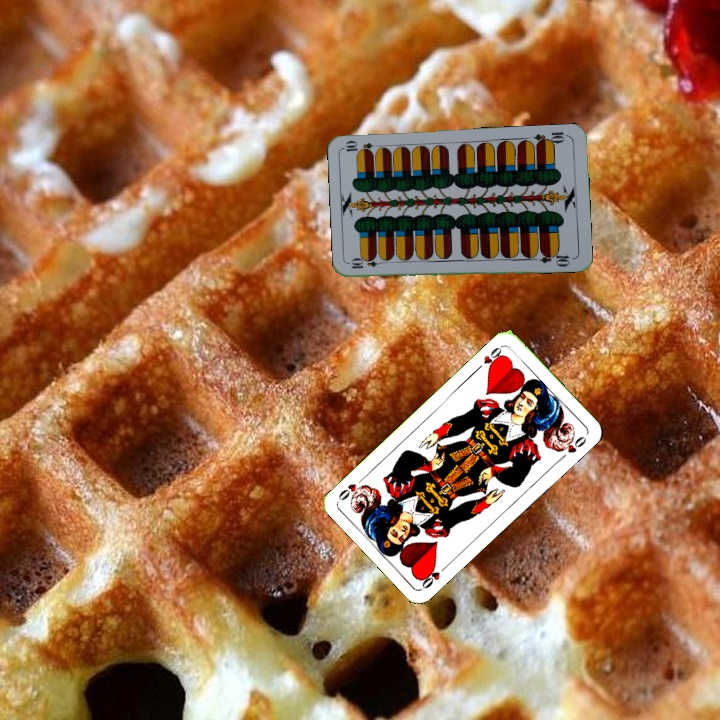E10: (530, 127, 571, 148), (347, 256, 388, 271)
HO: (472, 342, 507, 373), (417, 560, 451, 591)
